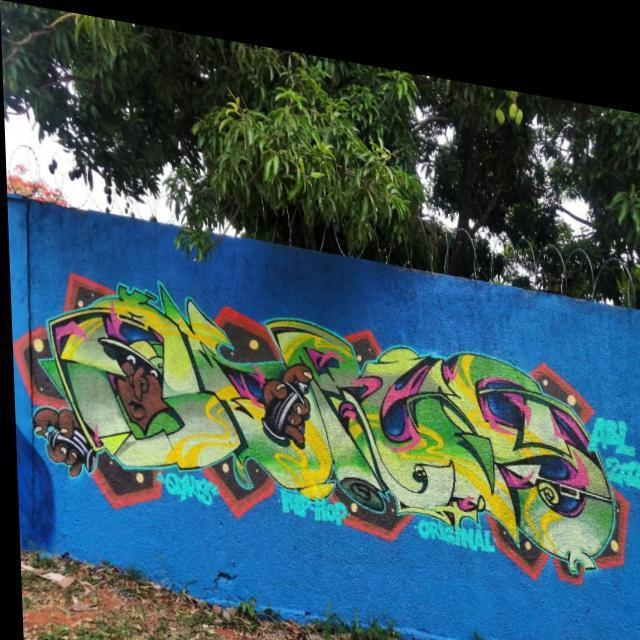-: (12, 248, 616, 582), (25, 304, 316, 501), (583, 386, 640, 476), (154, 458, 216, 509)
